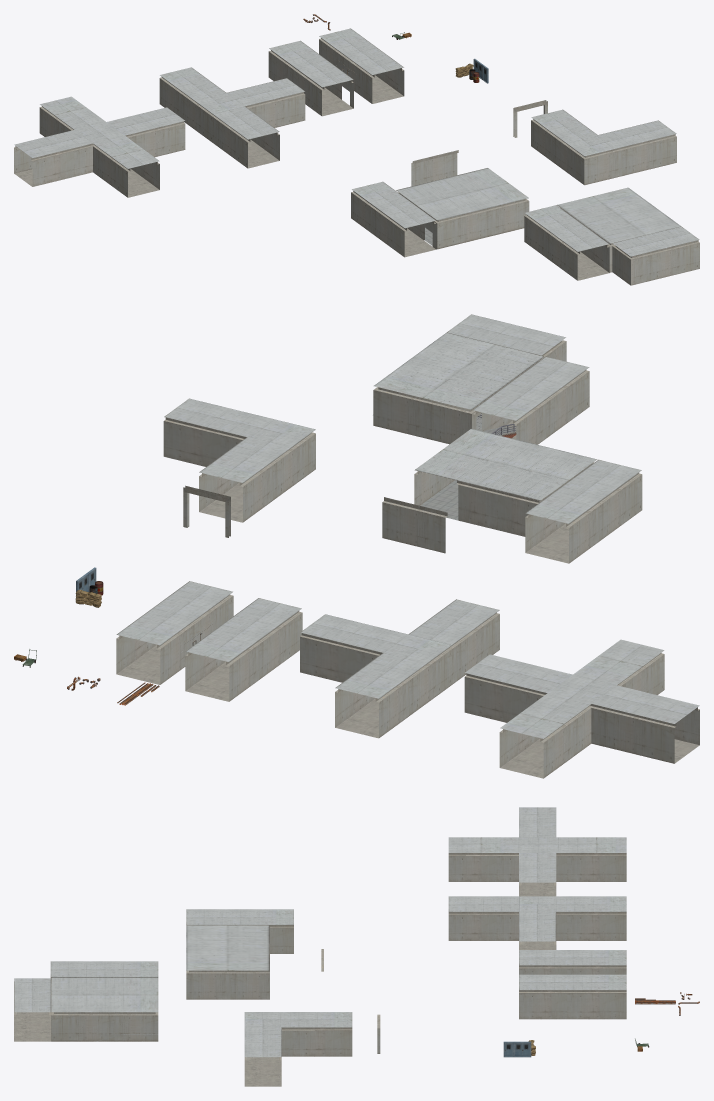
The model's file is Assets_01.fbx.
3 renders of one model, top to bottom at view 1: azimuth 30°, elevation 25°; view 2: azimuth 150°, elevation 25°; view 3: azimuth 270°, elevation 25°, orthographic. The views are drawn at different scales.
Parts seen in each view (by area): view 1: Room_1, Wall_bit_X, Wall_bit_T, wall_bit_L, Room1, wall_bit_1_with_door1, Wall_bit_1, wall_bit_1_with_door, wall_bit; view 2: Wall_bit_X, Room_1, Wall_bit_T, wall_bit_L, Room1, wall_bit_1_with_door1, wall_bit_1_with_door, Wall_bit_1, wall_bit, Piller1; view 3: Room_1, Wall_bit_X, Wall_bit_T, Room1, wall_bit_L, Wall_bit_1, wall_bit_1_with_door, wall_bit_1_with_door1.
Part boxes in pixels (<box>): Room_1: <box>524,187,699,285</box>; Wall_bit_X: <box>14,96,185,197</box>; Wall_bit_T: <box>159,67,305,168</box>; wall_bit_L: <box>531,109,676,185</box>; Room1: <box>396,168,529,249</box>; wall_bit_1_with_door1: <box>351,181,436,257</box>; Wall_bit_1: <box>319,28,404,103</box>; wall_bit_1_with_door: <box>268,40,353,116</box>; wall_bit: <box>411,150,458,186</box>; Wall_bit_X: <box>464,639,699,778</box>; Room_1: <box>373,314,589,444</box>; Wall_bit_T: <box>300,599,499,738</box>; wall_bit_L: <box>163,398,315,522</box>; Room1: <box>414,428,597,536</box>; wall_bit_1_with_door1: <box>525,459,642,563</box>; wall_bit_1_with_door: <box>185,598,302,701</box>; Wall_bit_1: <box>116,581,233,684</box>; wall_bit: <box>382,497,447,553</box>; Piller1: <box>183,485,230,537</box>; Room_1: <box>14,961,158,1041</box>; Wall_bit_X: <box>448,807,626,896</box>; Wall_bit_T: <box>448,896,626,949</box>; Room1: <box>186,925,269,999</box>; wall_bit_L: <box>244,1012,352,1086</box>; Wall_bit_1: <box>519,974,626,1019</box>; wall_bit_1_with_door: <box>519,950,626,974</box>; wall_bit_1_with_door1: <box>186,909,293,953</box>.
Bounding box in the file's own units: 7506 × 412 × 8707.
